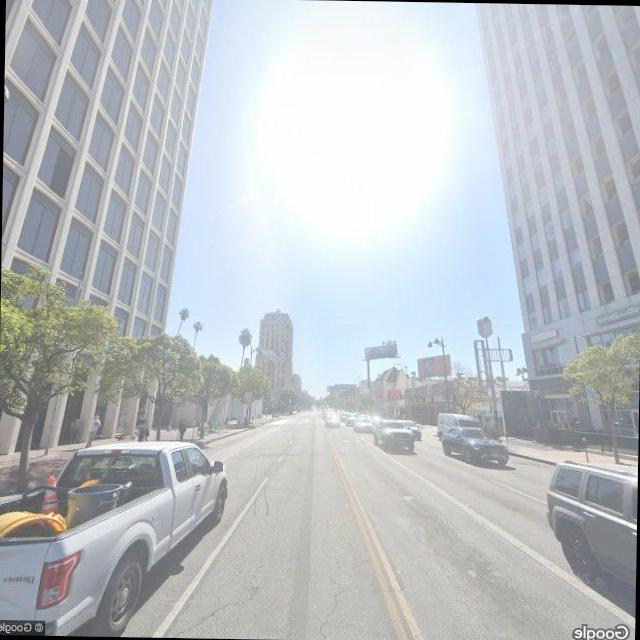pothole: (156, 592, 258, 637), (313, 550, 352, 640)
